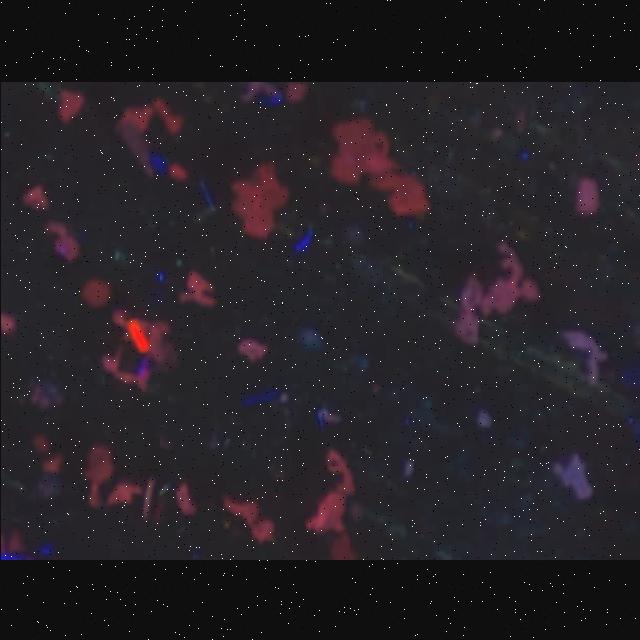Fibre: (550, 453, 591, 498)
Fragment: (230, 162, 288, 237), (306, 449, 353, 532)
